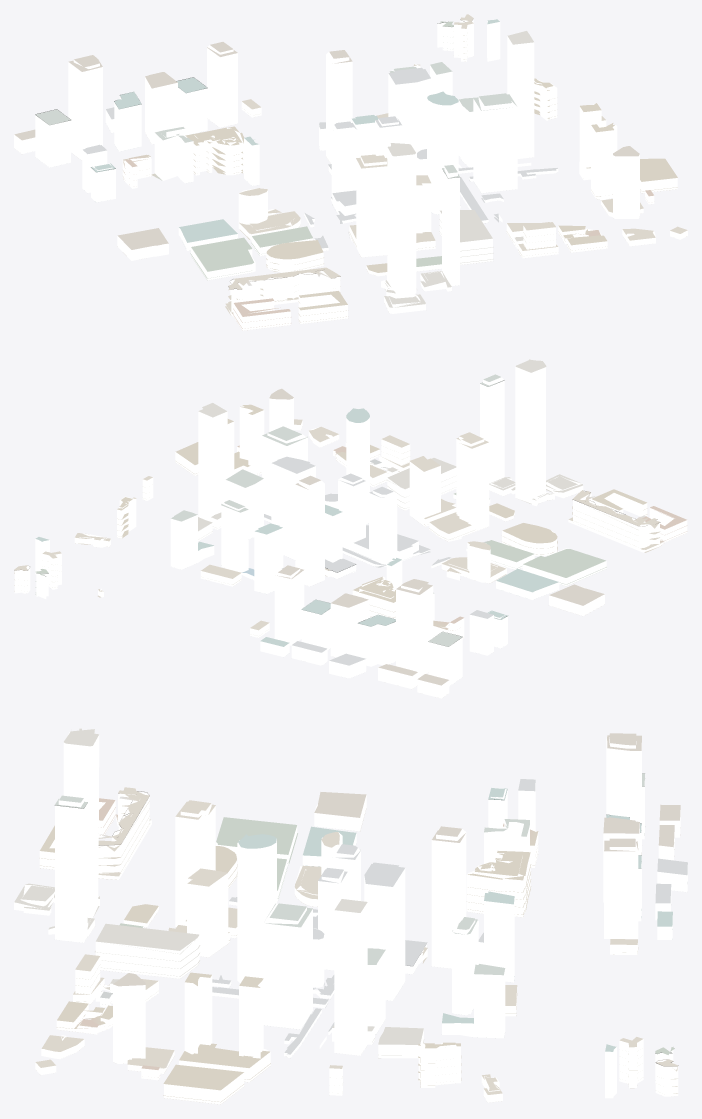
Rendered from buildings--9_-2-coarse.glb.
3 renders of one model, top to bottom at view 1: azimuth 30°, elevation 25°; view 2: azimuth 150°, elevation 25°; view 3: azimuth 270°, elevation 25°, orthographic. The views are drawn at different scales.
Visible parts, largest first — view 1: block_-9_-2_office, block_-9_-2_roof, block_-9_-2_residential; view 2: block_-9_-2_office, block_-9_-2_roof, block_-9_-2_residential; view 3: block_-9_-2_office, block_-9_-2_roof, block_-9_-2_residential.
Part boxes in pixels (box(x1,y1,x2,y2)): block_-9_-2_office: box(14, 20, 639, 292); block_-9_-2_roof: box(14, 14, 687, 330); block_-9_-2_residential: box(122, 19, 687, 330); block_-9_-2_office: box(35, 359, 604, 698); block_-9_-2_roof: box(14, 359, 687, 685); block_-9_-2_residential: box(14, 420, 687, 638); block_-9_-2_office: box(55, 732, 687, 1098); block_-9_-2_roof: box(14, 728, 687, 1104); block_-9_-2_residential: box(14, 792, 678, 1104).
Size of the model in its own units: 690 by 195 by 656.
